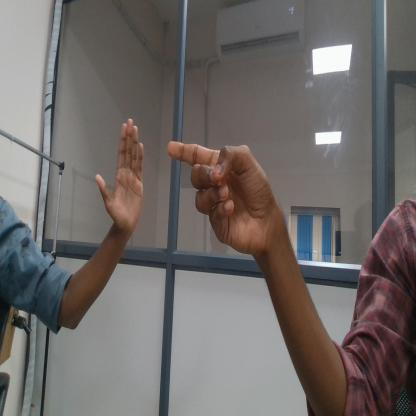Right: (165, 124, 272, 252)
Stop: (103, 112, 145, 236)
